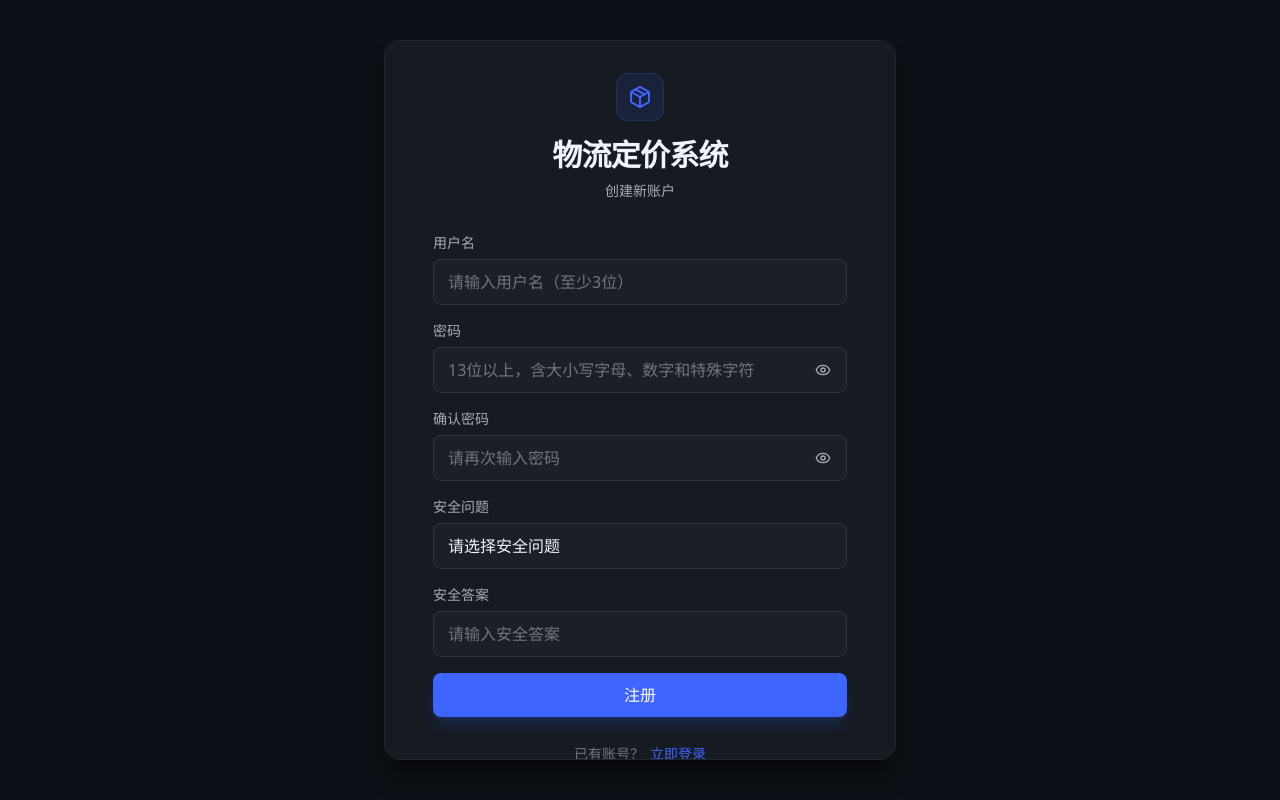
RegisterPage › validates username min length (3)
Type "ab" into the field with placeholder "请输入用户名（至少3位）" at (640, 282), box [433,259,847,305]
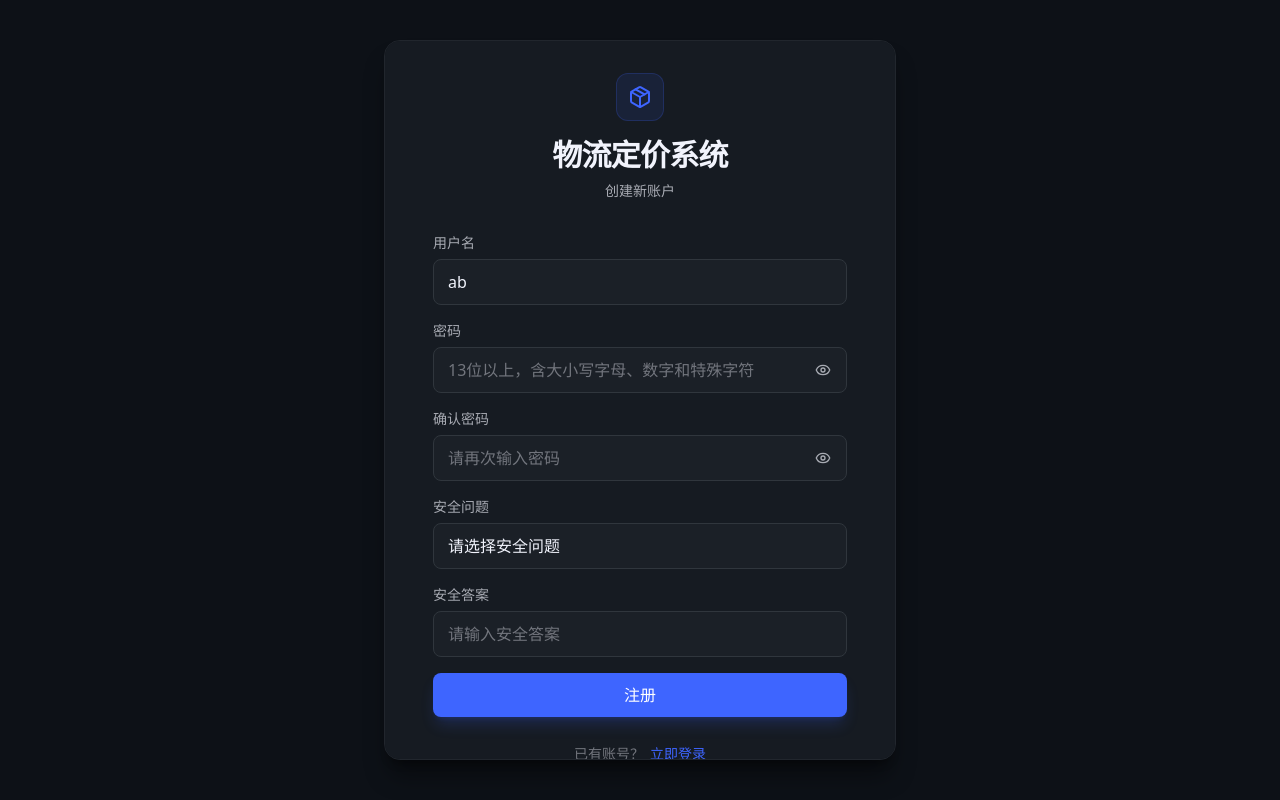
Click the button "注册" at (640, 695), box [433,673,847,717]
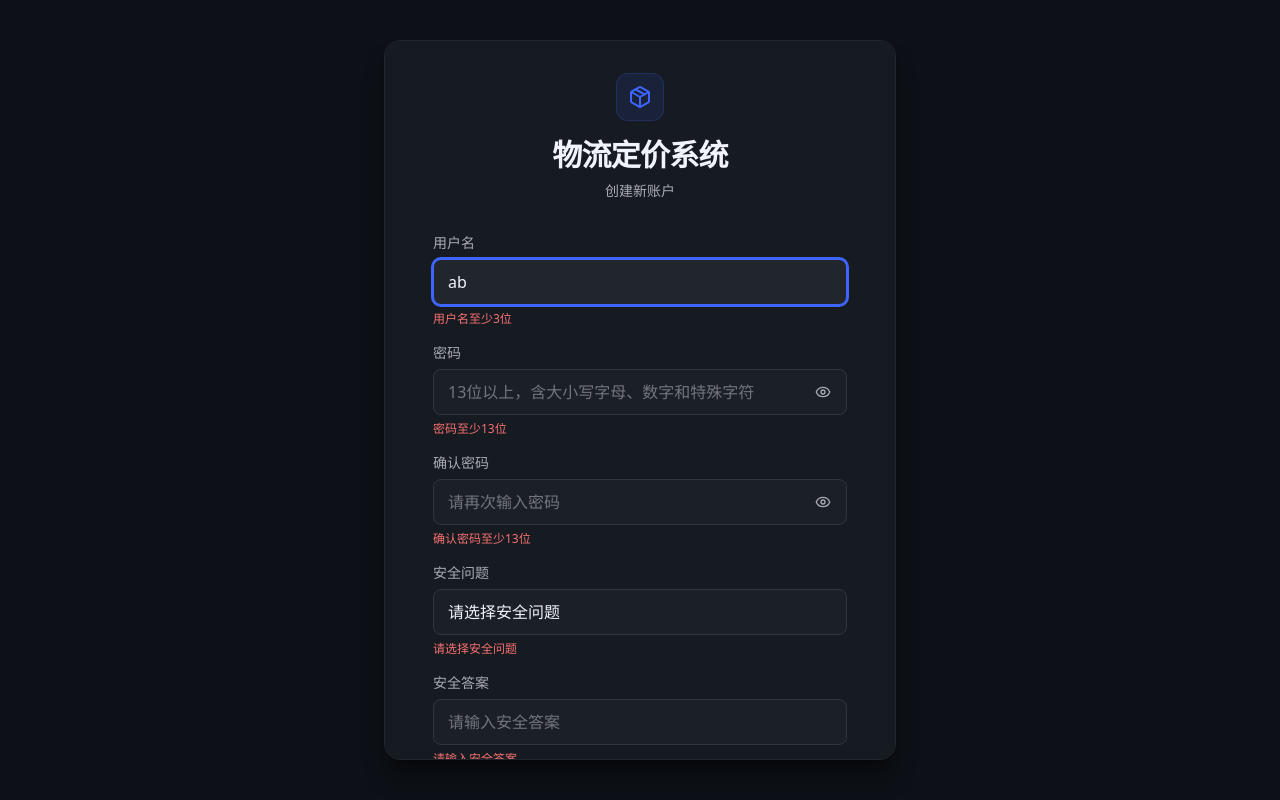
Result: the text "用户名至少3位" is shown at [433,310,512,327]
